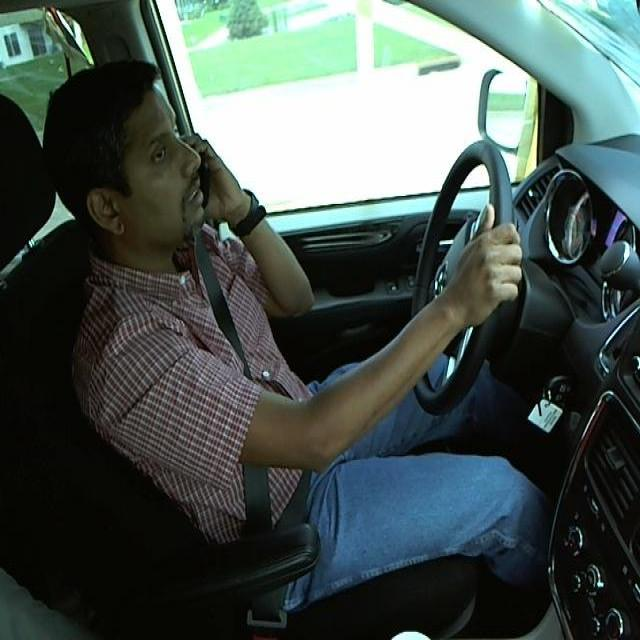using_phone: (0, 45, 295, 262)
